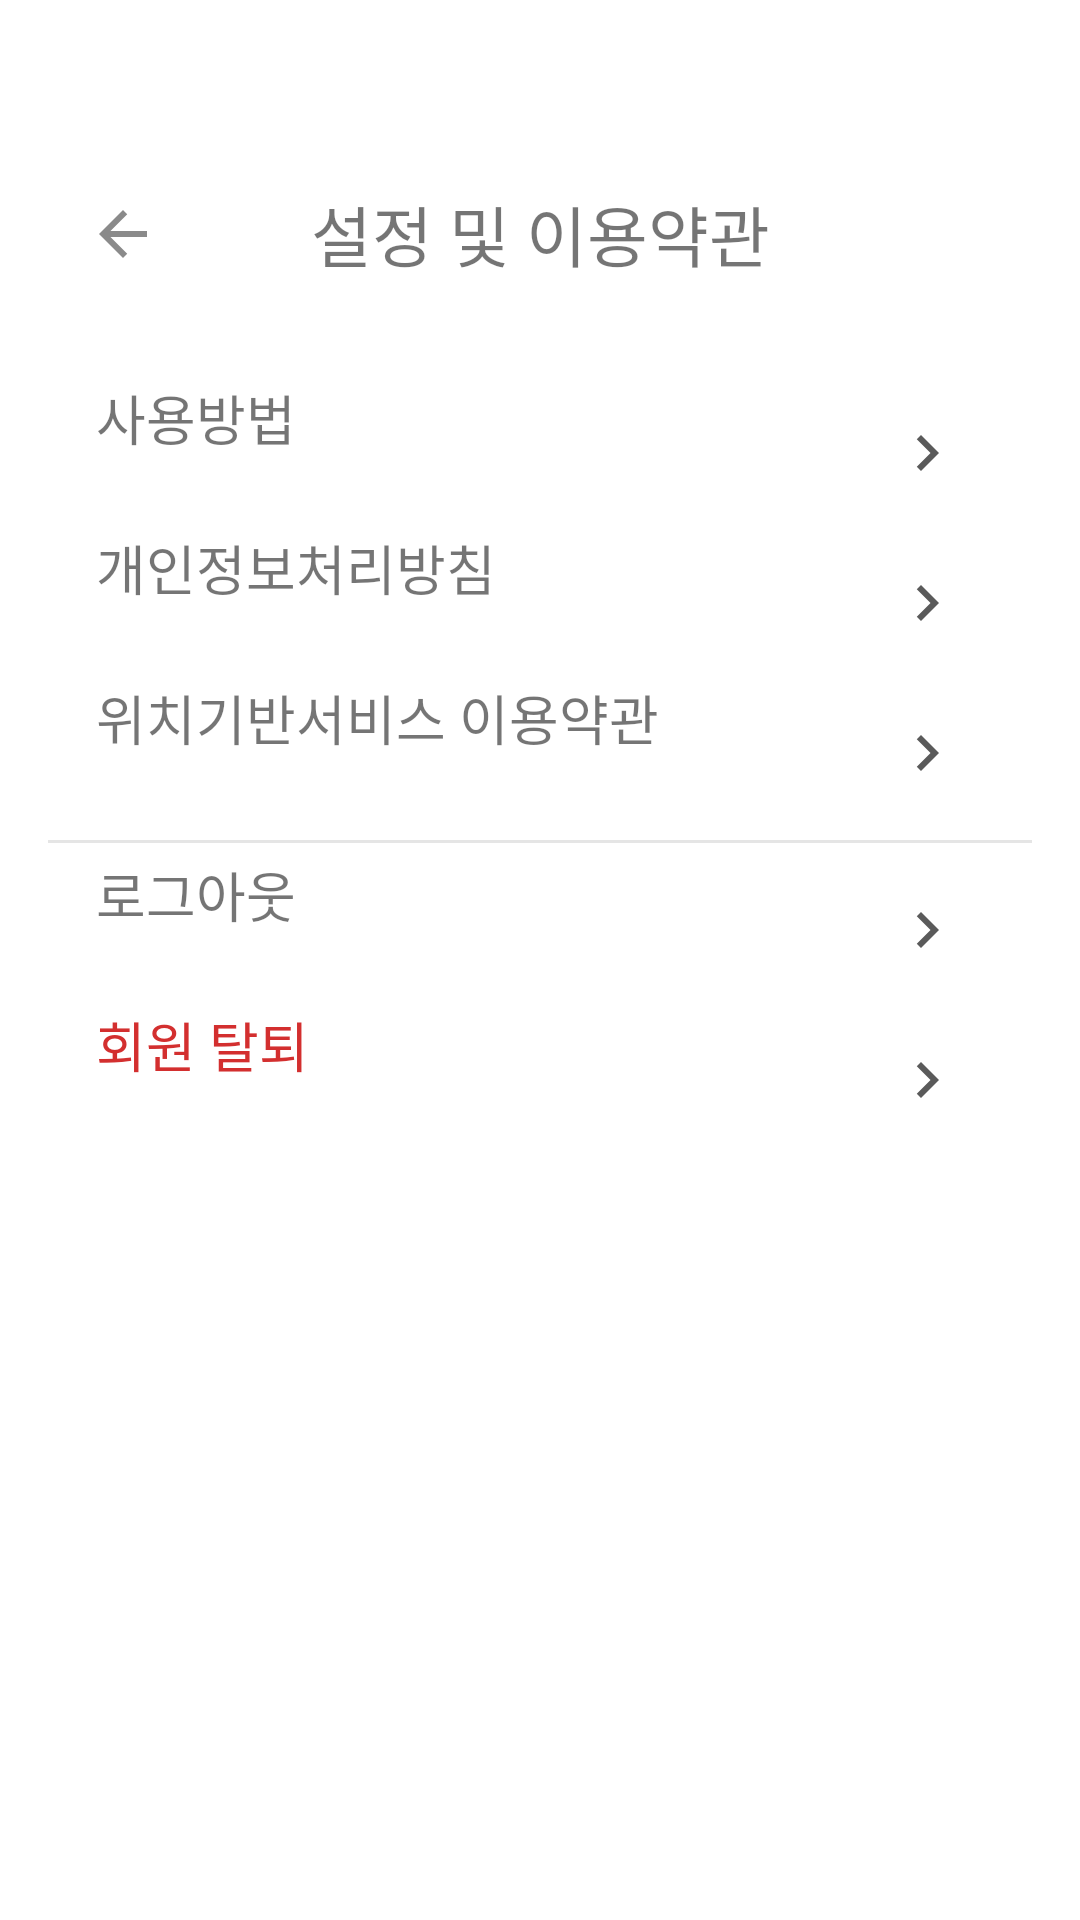

Screen size 1080*1920. Icon name, then its center in pixels as [x,y]:
detail back: [123,234]
setting next: [928,453], [928,603], [928,753], [928,930], [928,1080]
